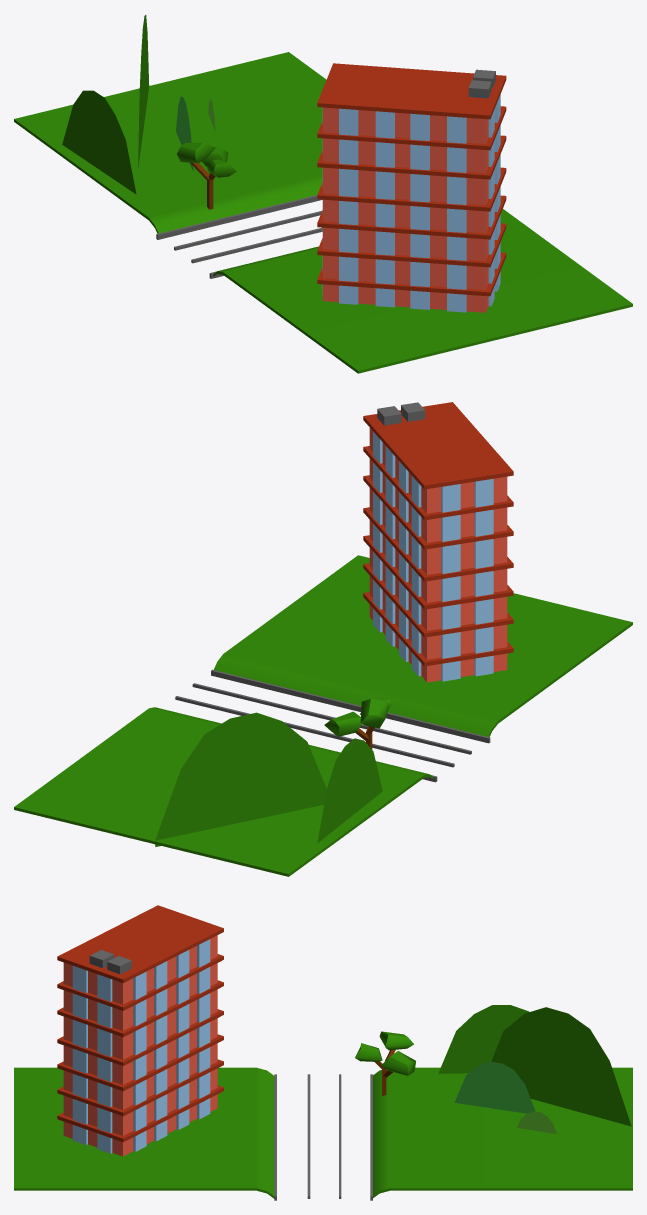
File: Level 3 Chunk 3.fbx
The picture shows the model from 3 angles, top to bottom: view 1: azimuth 30°, elevation 25°; view 2: azimuth 150°, elevation 25°; view 3: azimuth 270°, elevation 25°; orthographic projection. The views are drawn at different scales.
Parts seen in each view (by area): view 1: pCube7997, pCube7747, pCube7742, pasted__pCube5670, pCube7937, pCube7739, pasted__pasted__pCube5550, pCube7730, pCube7751, pasted__pasted__pCube5551; view 2: pCube7997, pCube7742, pCube7747, pasted__pasted__pCube5550, pasted__pCube5670, pCube7741, pCube7937, pCube7751, pCube7730; view 3: pCube7997, pCube7747, pCube7742, pasted__pasted__pCube5550, pasted__pCube5670, pasted__pasted__pCube5551, pCube7937, pasted__pCube5669, pCube7751.
Part boxes in pixels (left/top/right/bottom): pCube7997: left=317, top=63, right=506, bottom=312; pCube7747: left=14, top=52, right=326, bottom=233; pCube7742: left=213, top=209, right=632, bottom=373; pasted__pCube5670: left=62, top=90, right=136, bottom=194; pCube7937: left=177, top=142, right=236, bottom=209; pCube7739: left=156, top=195, right=322, bottom=239; pasted__pasted__pCube5550: left=138, top=15, right=149, bottom=169; pCube7730: left=174, top=211, right=321, bottom=250; pCube7751: left=191, top=227, right=322, bottom=263; pasted__pasted__pCube5551: left=176, top=96, right=193, bottom=171; pCube7997: left=363, top=402, right=513, bottom=682; pCube7742: left=213, top=555, right=632, bottom=737; pCube7747: left=14, top=707, right=433, bottom=876; pasted__pasted__pCube5550: left=155, top=712, right=326, bottom=846; pasted__pCube5670: left=317, top=738, right=382, bottom=843; pCube7741: left=211, top=669, right=490, bottom=743; pCube7937: left=324, top=696, right=391, bottom=749; pCube7751: left=192, top=683, right=471, bottom=754; pCube7730: left=175, top=696, right=454, bottom=767; pCube7997: left=57, top=905, right=223, bottom=1156; pCube7747: left=373, top=1067, right=632, bottom=1197; pCube7742: left=14, top=1067, right=274, bottom=1198; pasted__pasted__pCube5550: left=491, top=1007, right=631, bottom=1126; pasted__pCube5670: left=438, top=1005, right=529, bottom=1073; pasted__pasted__pCube5551: left=454, top=1061, right=535, bottom=1113; pCube7937: left=355, top=1031, right=415, bottom=1095; pasted__pCube5669: left=517, top=1111, right=556, bottom=1134; pCube7751: left=307, top=1074, right=310, bottom=1198.
Bounding box in the file's own units: 12.38 × 9.46 × 26.56.
1 material, 1 textured.
